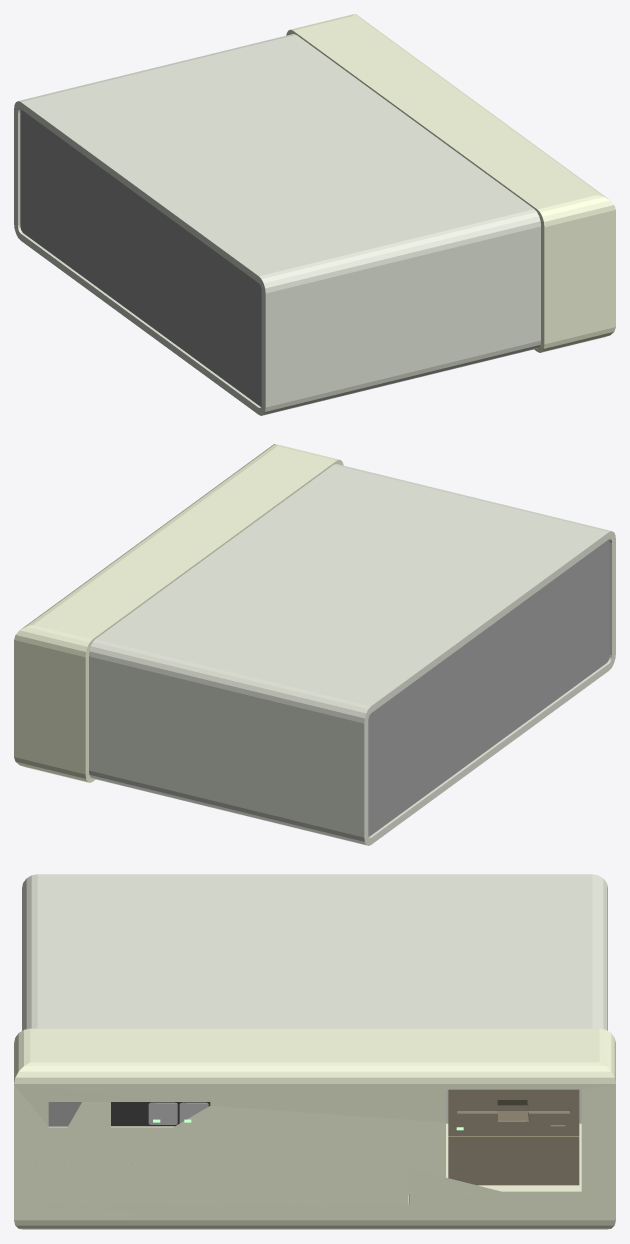
Rendered from computer.fbx.
3 renders of one model, top to bottom at view 1: azimuth 30°, elevation 25°; view 2: azimuth 150°, elevation 25°; view 3: azimuth 270°, elevation 25°, orthographic. The views are drawn at different scales.
Visible parts, largest first — view 1: cpu; view 2: cpu; view 3: cpu, flopy, flopy.001.
Part boxes in pixels (box(x1,y1,x2,y2)): cpu: box(14, 14, 615, 415); cpu: box(14, 444, 615, 845); cpu: box(14, 874, 615, 1229); flopy: box(448, 1089, 579, 1185); flopy.001: box(457, 1105, 569, 1131).
Bounding box in the file's own units: 280 × 110 × 361.
